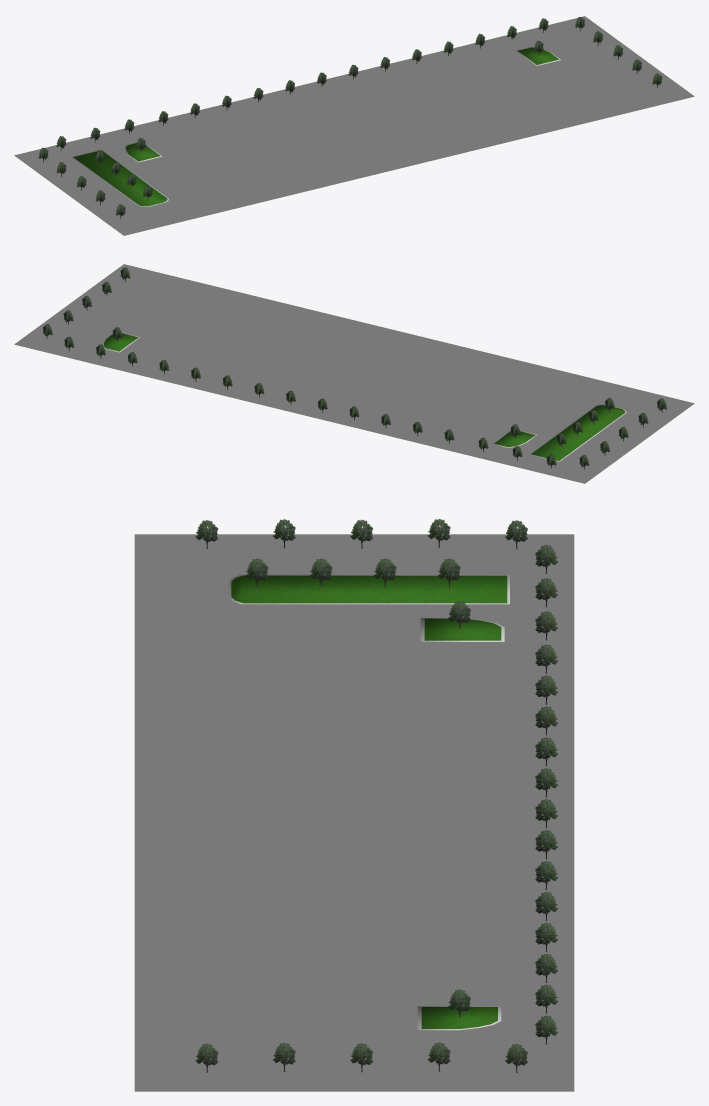
Rendered from whfa_0f_mini.gltf.
3 renders of one model, top to bottom at view 1: azimuth 30°, elevation 25°; view 2: azimuth 150°, elevation 25°; view 3: azimuth 270°, elevation 25°, orthographic. The views are drawn at different scales.
Visible parts, largest first — view 1: dimian_61, dimian_59, dimian_33, dimian_60; view 2: dimian_61, dimian_59, dimian_60, dimian_33; view 3: dimian_61, dimian_59, dimian_60, dimian_33, dimian_35.
Part boxes in pixels (left/top/right/bottom): dimian_61: left=14, top=16, right=694, bottom=235; dimian_59: left=73, top=150, right=167, bottom=206; dimian_33: left=518, top=47, right=558, bottom=64; dimian_60: left=126, top=143, right=160, bottom=161; dimian_61: left=14, top=264, right=694, bottom=483; dimian_59: left=531, top=405, right=625, bottom=460; dimian_60: left=494, top=431, right=535, bottom=446; dimian_33: left=103, top=333, right=138, bottom=351; dimian_61: left=134, top=534, right=574, bottom=1091; dimian_59: left=231, top=575, right=507, bottom=603; dimian_60: left=424, top=618, right=501, bottom=640; dimian_33: left=421, top=1007, right=497, bottom=1028; dimian_35: left=229, top=574, right=509, bottom=604.
Bounding box in the file's own units: 491 × 13.02 × 164.
Materials: 5 (3 with a texture image).
